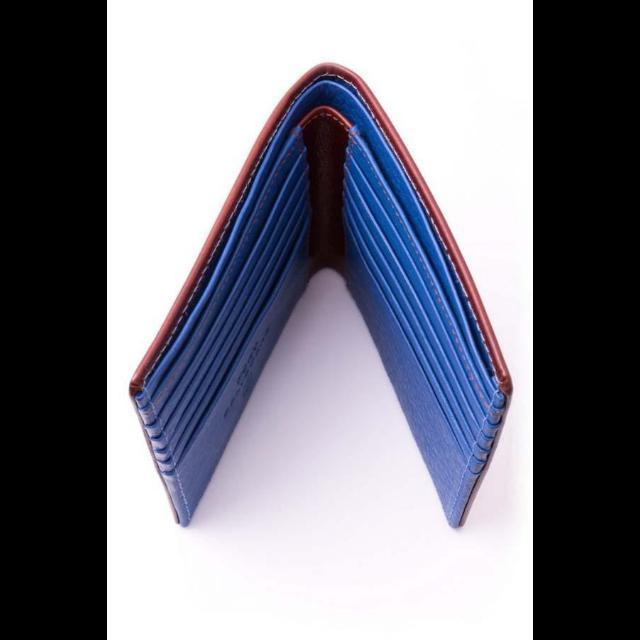wallet: (124, 55, 516, 535)
